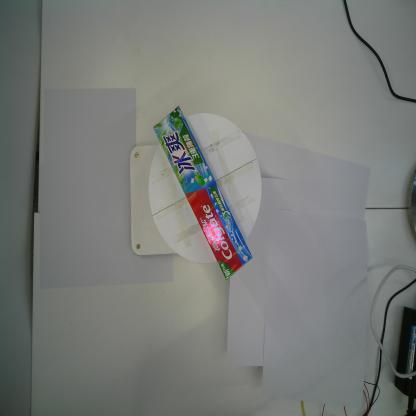Personal Hygiene: (153, 105, 253, 279)
